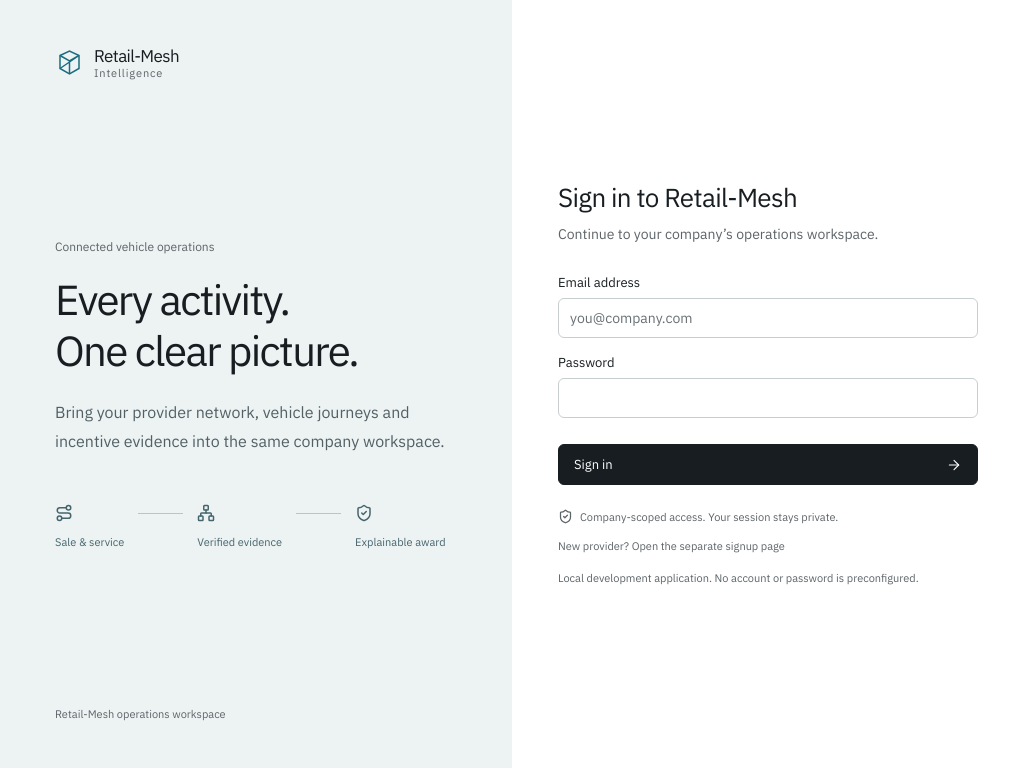
operations components › submits login credentials outside Redux actions
The width and height of the screenshot is (1024, 768).
Type "preview@example.invalid" into the field labelled "Email address".
click(768, 318); type("preview@example.invalid")  # box [558,298,978,338]
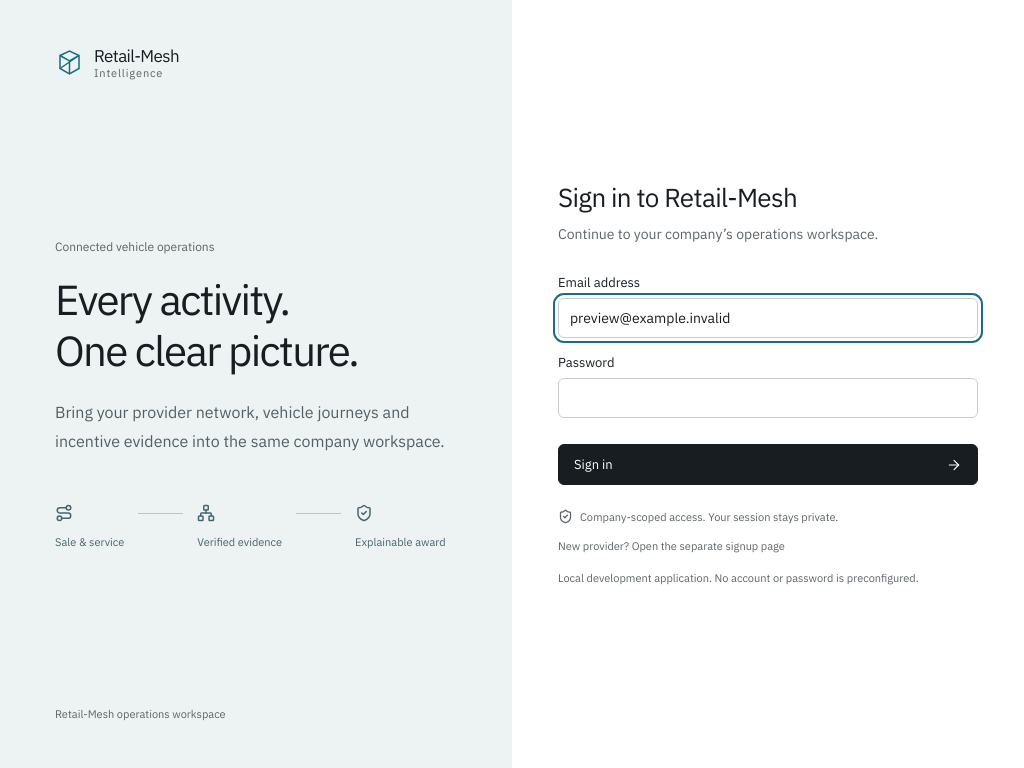
Type "Secret-Only-In-Form" into the password field labelled "Password".
click(768, 398); type("Secret-Only-In-Form")  # box [558,378,978,418]
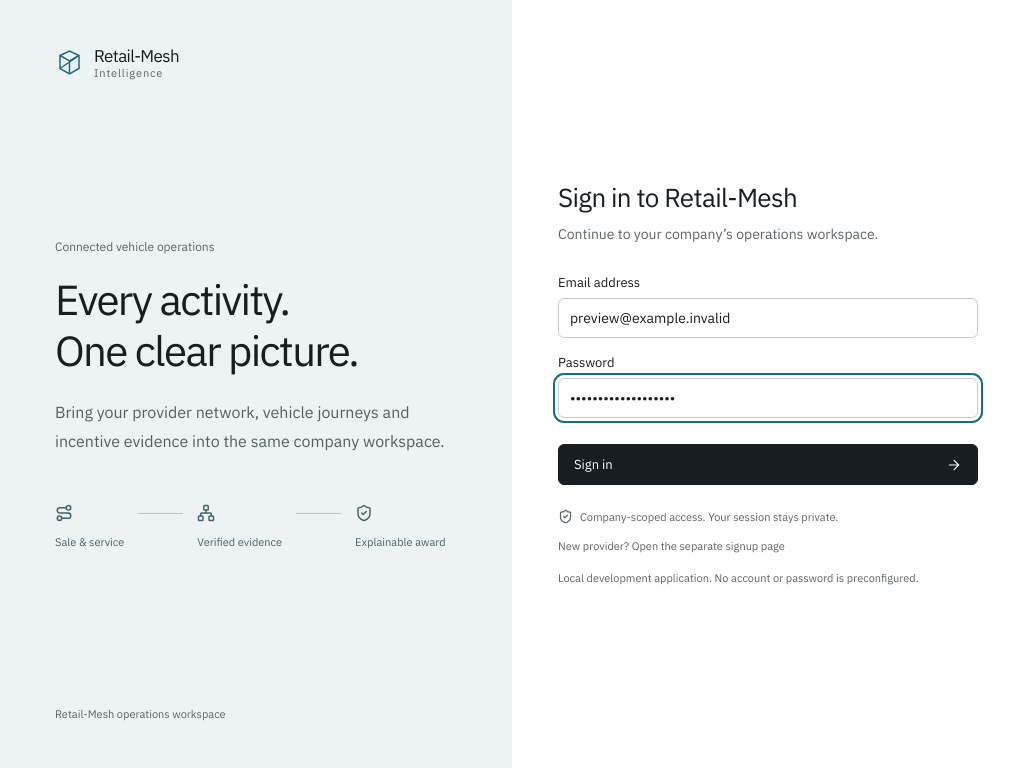
Click the button "Sign in".
click(593, 465)  # box [558,444,978,485]
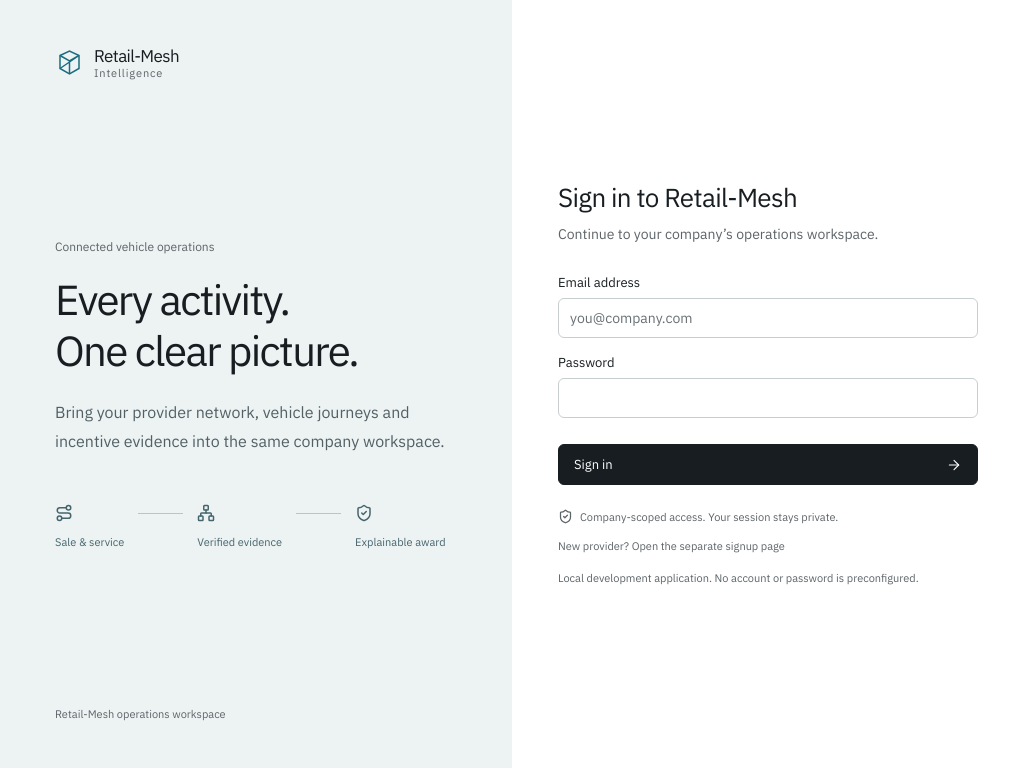
Result: the password field labelled "Password" is empty at [558,378,978,418]
